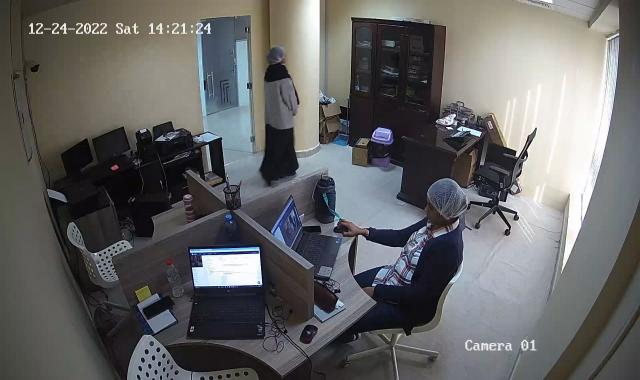hairnet: (424, 180, 470, 222), (266, 44, 285, 66)
